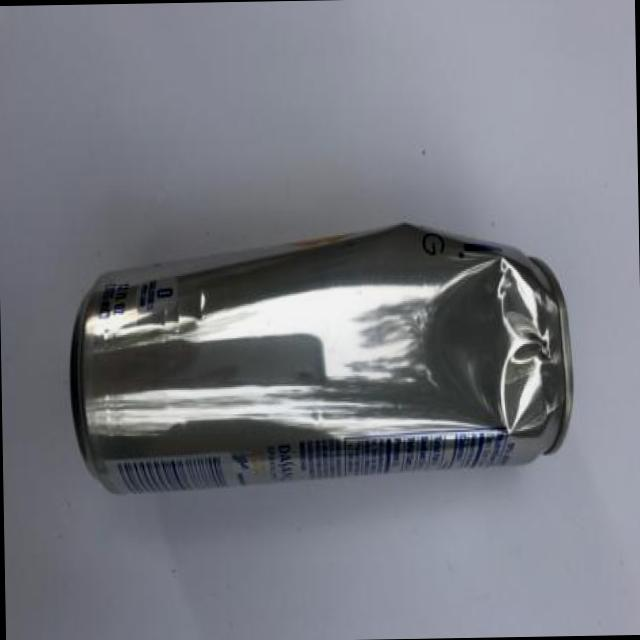nhom: (68, 219, 575, 494)
